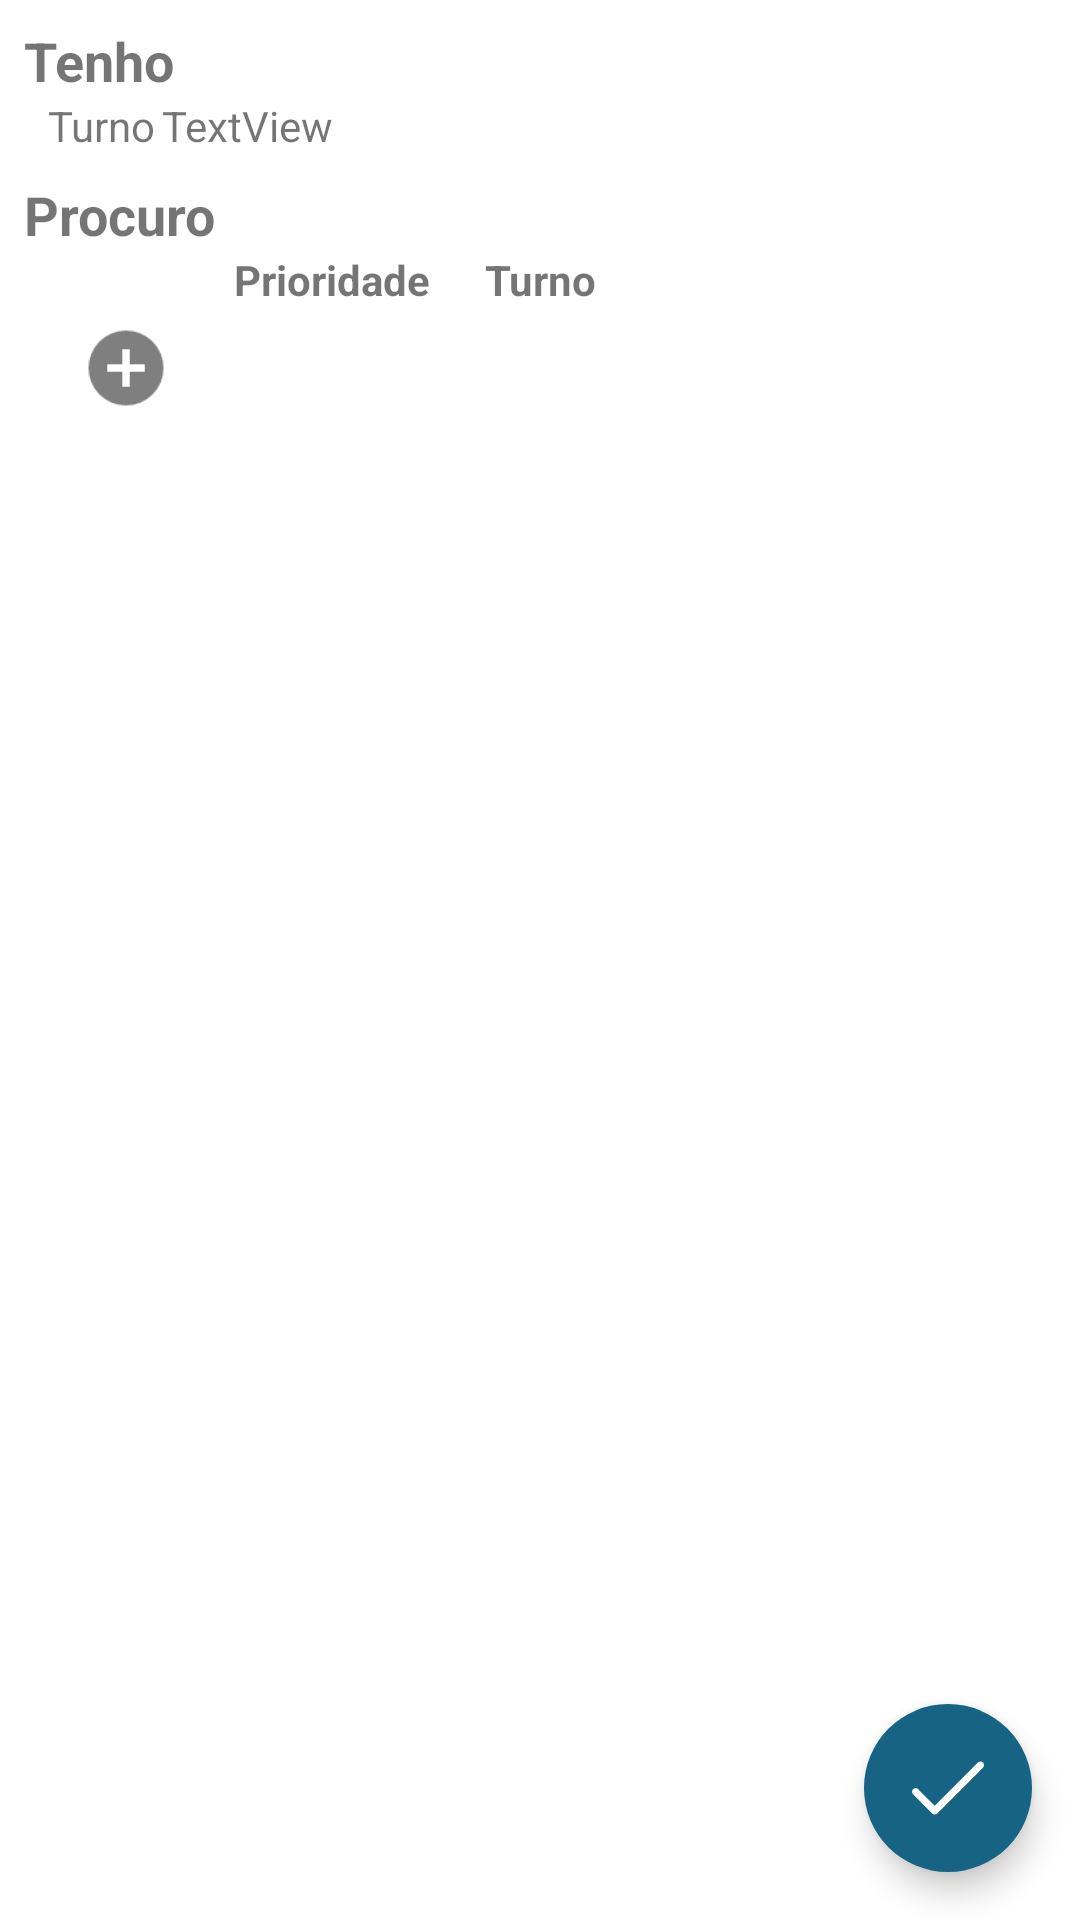

Named icons in this screenshot (1080w x 1920h) and their bounding boxes, region(x1, y1, x2, y2):
tick: region(864, 1704, 1032, 1872)
